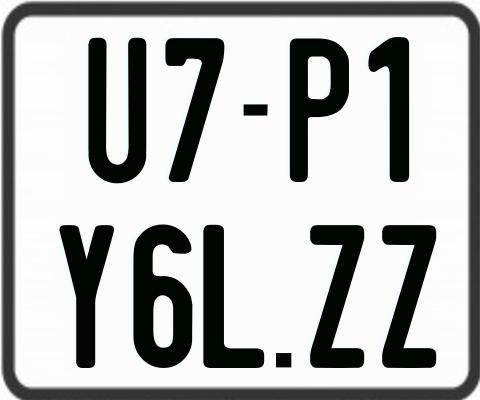1: (367, 35, 410, 182)
6: (133, 224, 193, 371)
7: (165, 38, 227, 186)
L: (202, 223, 264, 371)
P: (287, 35, 350, 183)
U: (88, 38, 150, 183)
Y: (57, 223, 113, 367)
Z: (382, 224, 441, 372), (307, 224, 361, 370)
